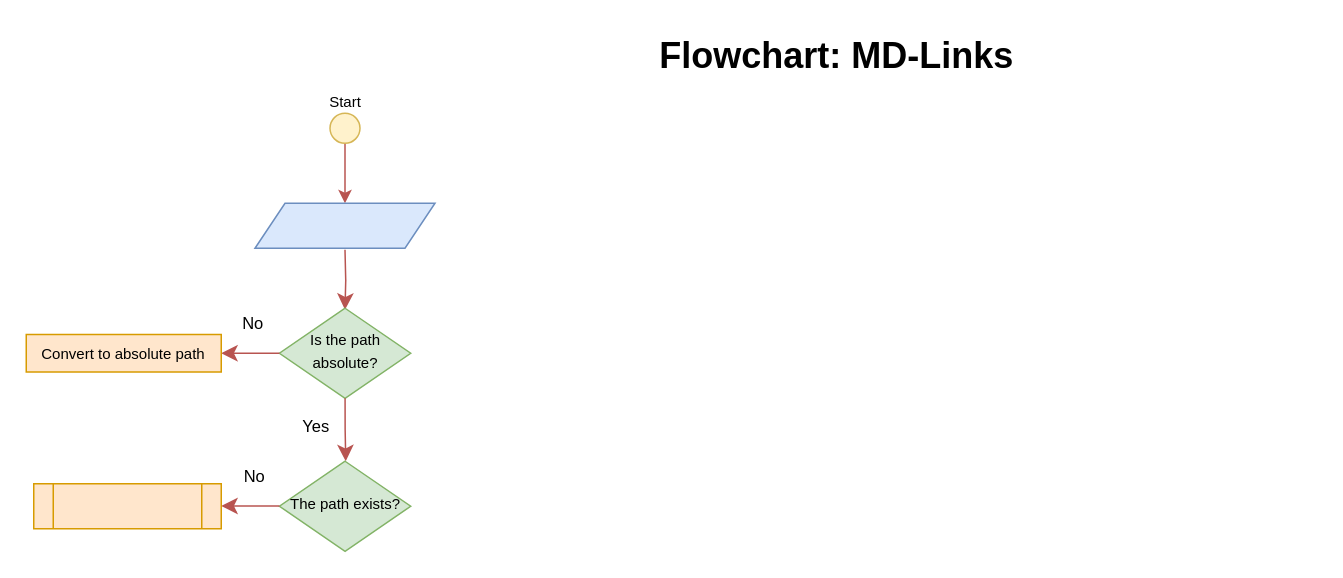
This 1343x578 diagram has some shape labels left out. Here are the shapes that lost their labels. From the top down, the box of each, then its label:
(254, 202, 435, 248): Enter the path
(32, 482, 221, 529): Error
